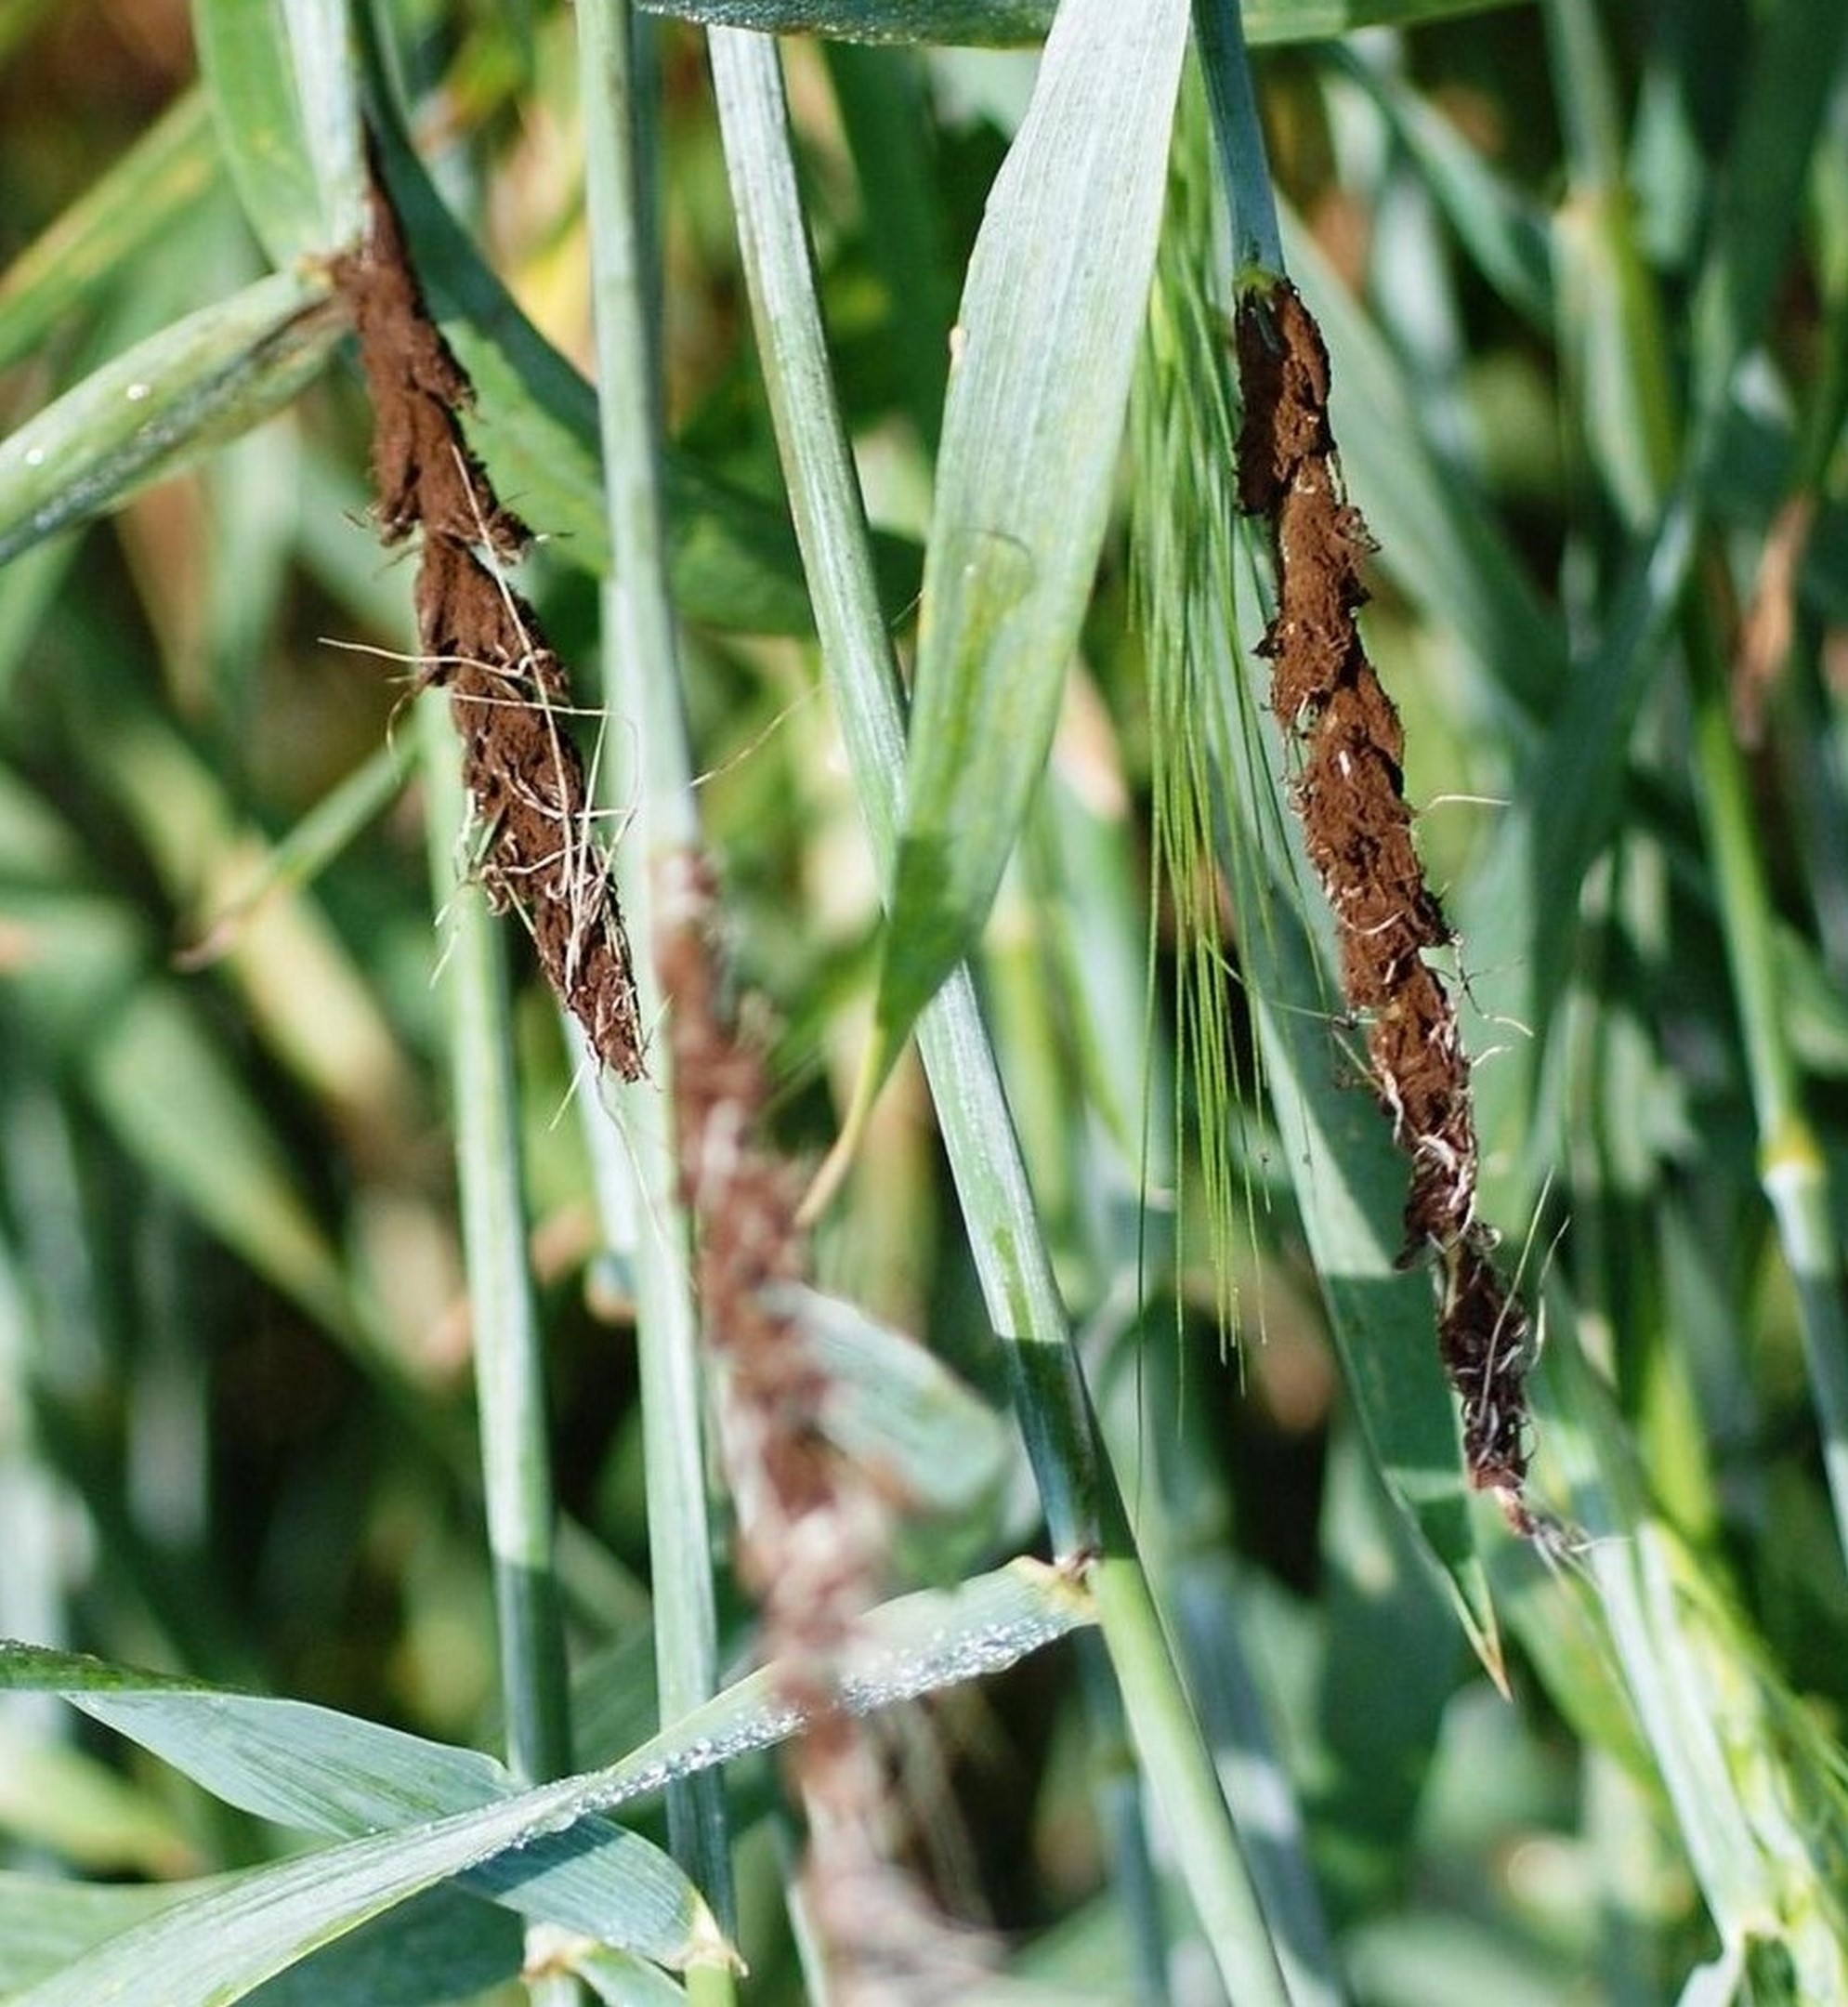Wheat Loose Smut: (1187, 290, 1615, 1554), (313, 252, 673, 1077)
